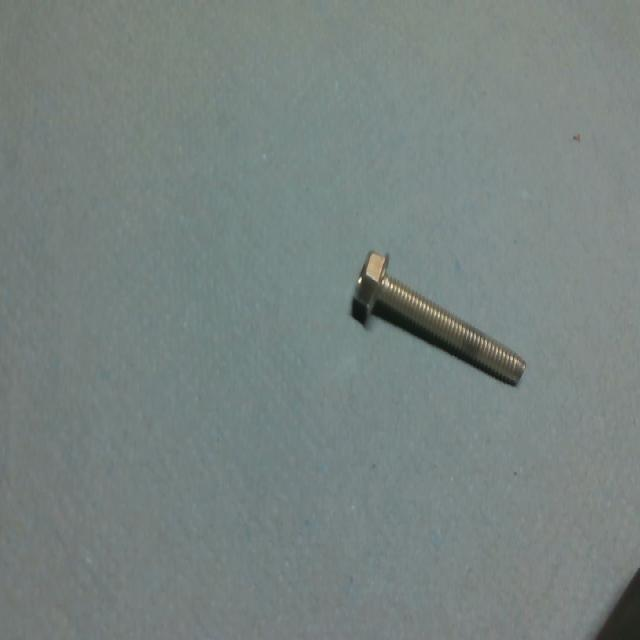Bolt: (343, 240, 525, 385)
